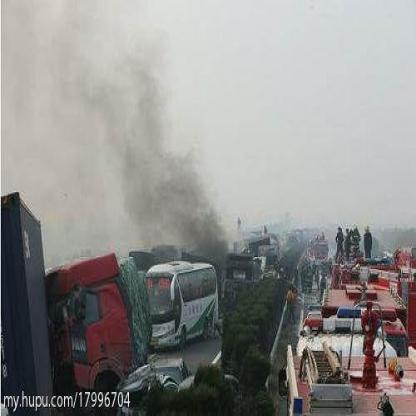smoke: (76, 50, 170, 147), (129, 150, 174, 246), (174, 192, 228, 245), (176, 143, 206, 196)
